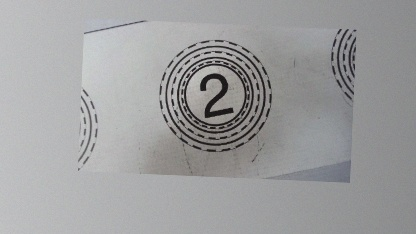2r: (154, 36, 275, 155)
